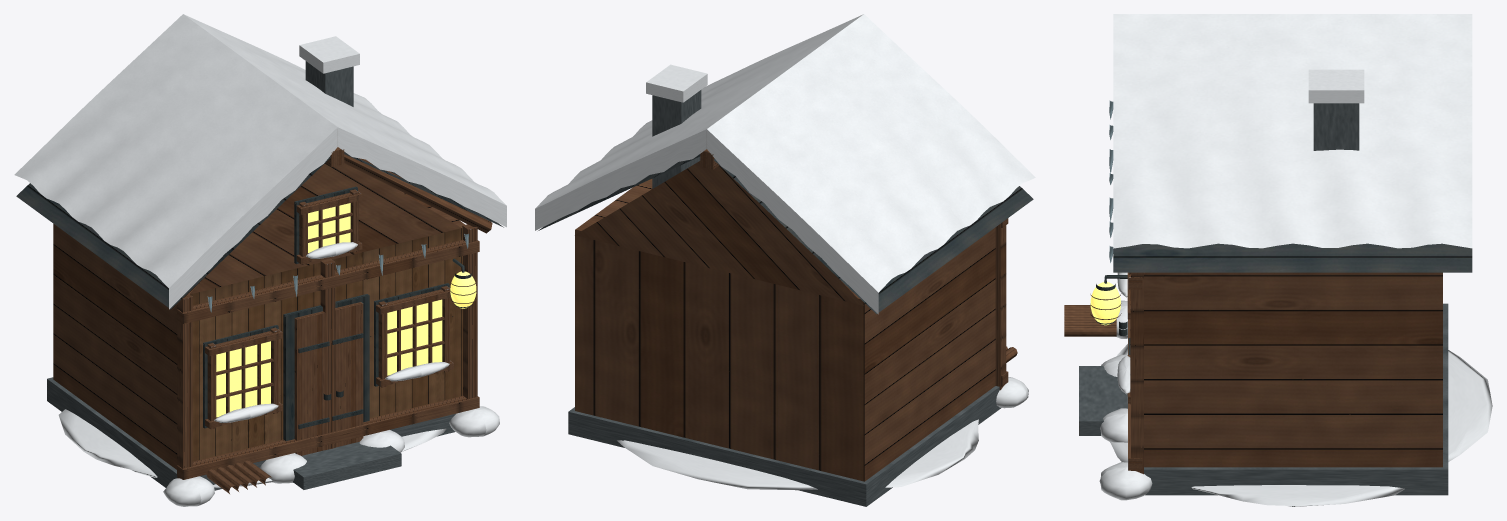
The model's file is nyanisyarud-snow-house.glb.
3 renders of one model, left to right at view 1: azimuth 30°, elevation 25°; view 2: azimuth 150°, elevation 25°; view 3: azimuth 270°, elevation 25°, orthographic. The views are drawn at different scales.
Parts seen in each view (by area): view 1: 01 Snow village timber house | front +Z; view 2: 01 Snow village timber house | front +Z; view 3: 01 Snow village timber house | front +Z.
Boxes of the visible parts, box(x1,y1,x2,y2) form: 01 Snow village timber house | front +Z: box(14, 14, 506, 506); 01 Snow village timber house | front +Z: box(535, 14, 1035, 506); 01 Snow village timber house | front +Z: box(1064, 14, 1492, 506).
Size of the model in its own units: 4.34 by 4.05 by 3.93.
Materials: 8 (8 with a texture image).
